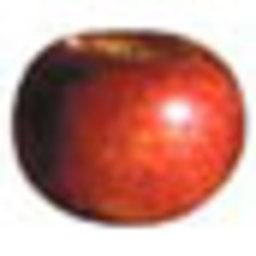apple: (11, 28, 247, 225)
